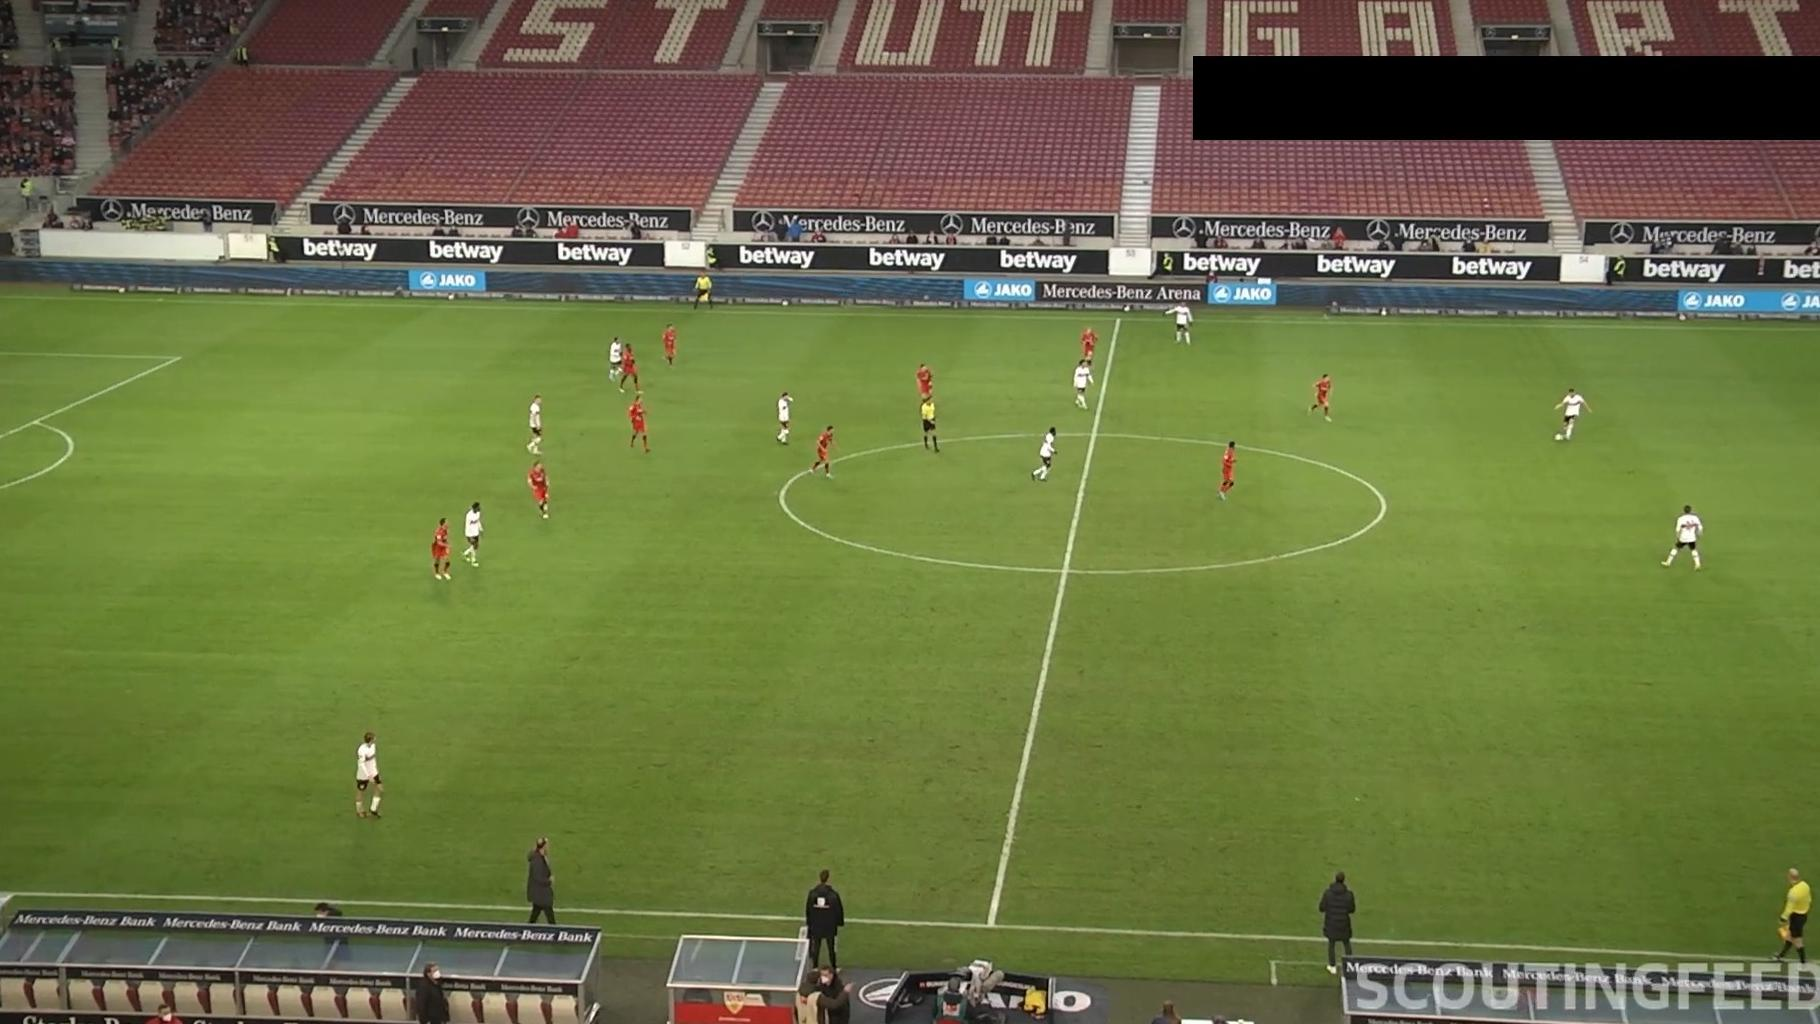ball: (1552, 431, 1565, 443)
